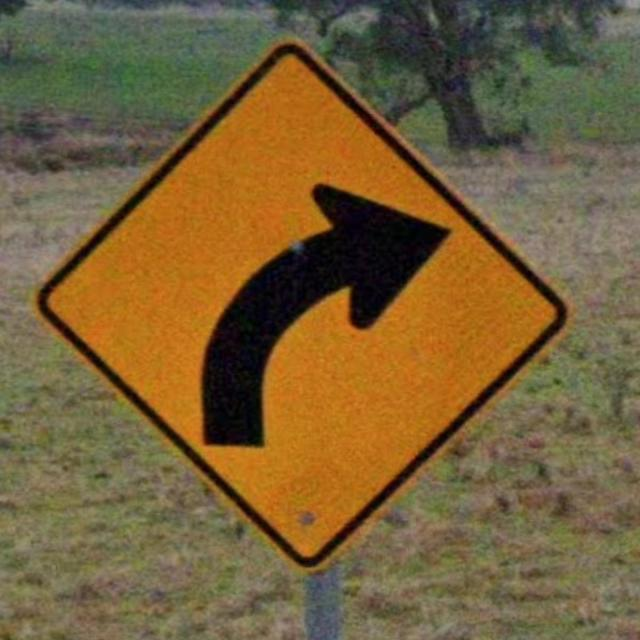Tikungan Ke Kanan: (31, 29, 575, 576)
